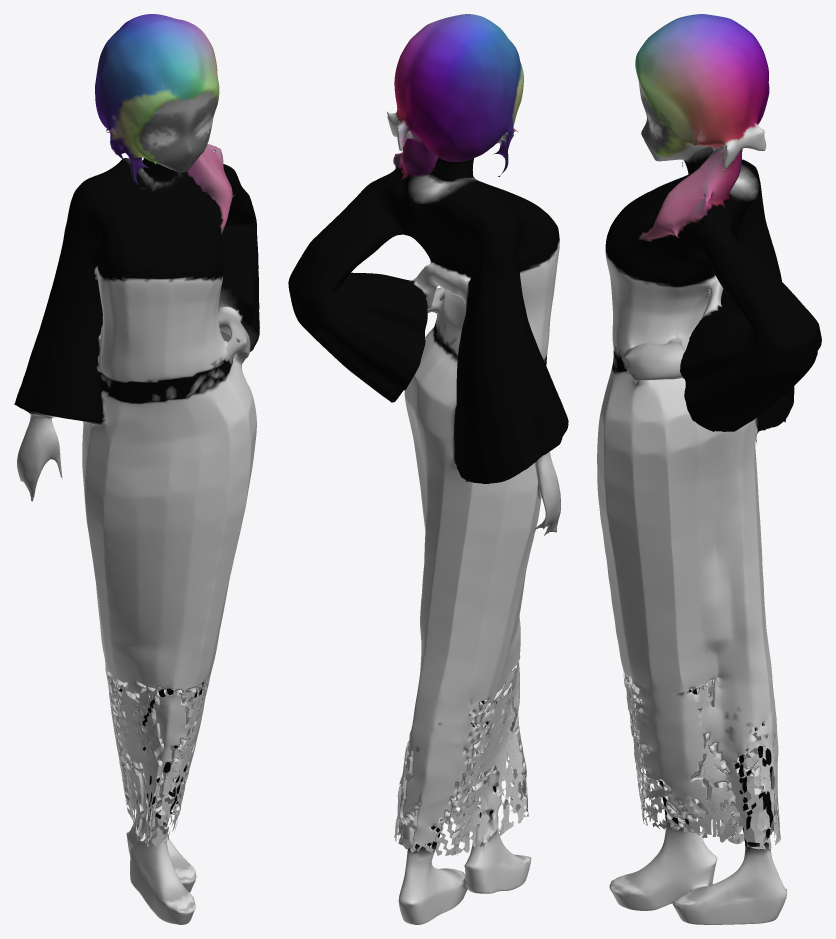
Rendered from SK_Cartoon_31_H.fbx.
3 views of the same model, side by side, from view 1: azimuth 30°, elevation 25°; view 2: azimuth 150°, elevation 25°; view 3: azimuth 270°, elevation 25° (orthographic). The views are drawn at different scales.
Parts seen in each view (by area): view 1: SK_Cartoon_Female_0310; view 2: SK_Cartoon_Female_0310; view 3: SK_Cartoon_Female_0310.
Part boxes in pixels (x1,y1,x2,y2): SK_Cartoon_Female_0310: (14,14,259,924); SK_Cartoon_Female_0310: (288,14,568,924); SK_Cartoon_Female_0310: (597,14,821,924).
Size of the model in its own units: 50 by 167 by 38.05.
